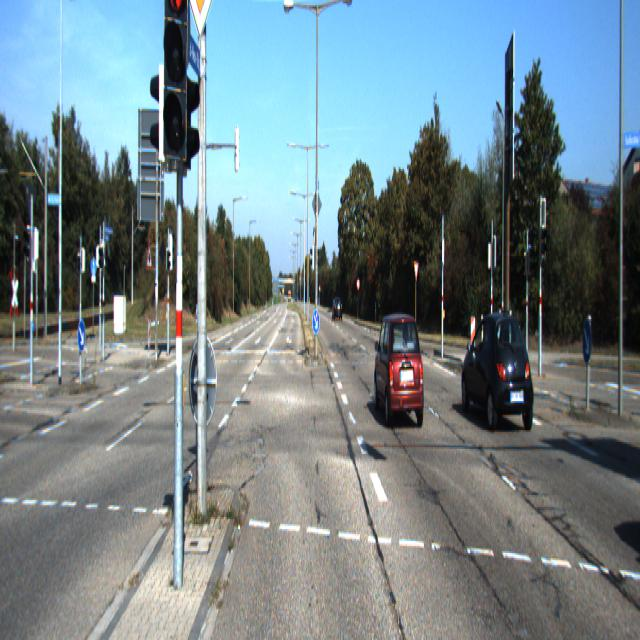Car: (461, 309, 535, 435), (374, 312, 426, 433)
